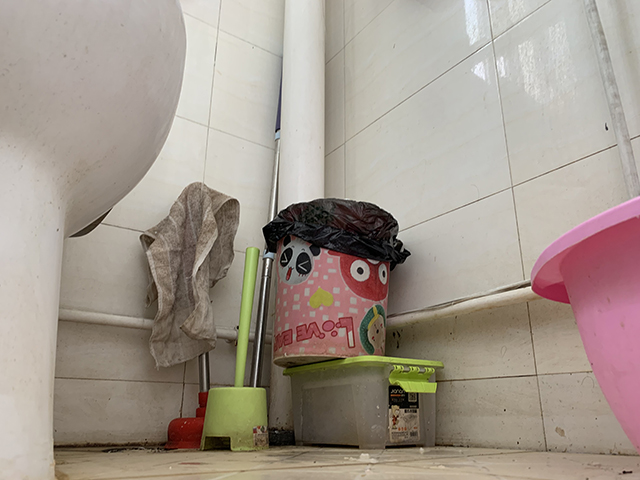closestool: (1, 1, 189, 480)
trashcan: (266, 196, 399, 361)
